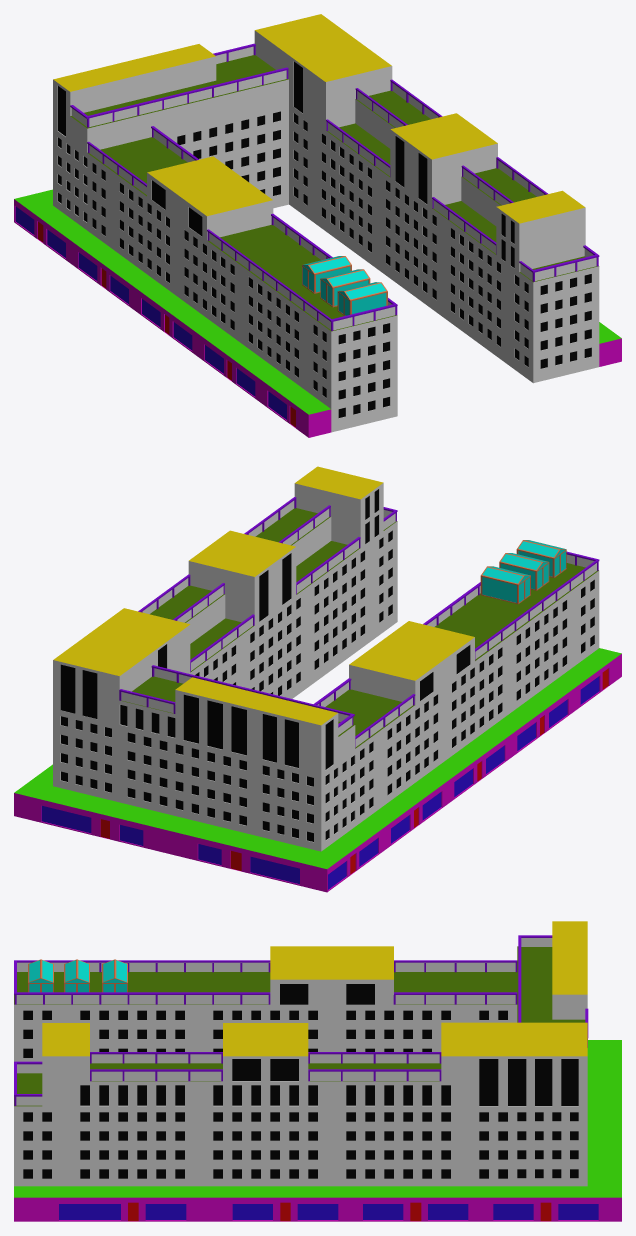
File: hrus  u  2VID.fbx
3 renders of one model, top to bottom at view 1: azimuth 30°, elevation 25°; view 2: azimuth 150°, elevation 25°; view 3: azimuth 270°, elevation 25°, orthographic. The views are drawn at different scales.
Parts seen in each view (by area): view 1: Плоскость.009, Плоскость.001; view 2: Плоскость.009, Плоскость.001; view 3: Плоскость.009, Плоскость.001.
Boxes of the visible parts, <box> form: Плоскость.009: <box>14,14,621,437</box>; Плоскость.001: <box>71,46,596,330</box>; Плоскость.009: <box>14,466,621,892</box>; Плоскость.001: <box>121,500,596,746</box>; Плоскость.009: <box>14,921,621,1221</box>; Плоскость.001: <box>16,938,552,1105</box>.
Bounding box in the file's own units: 7587 × 3459 × 12372.
